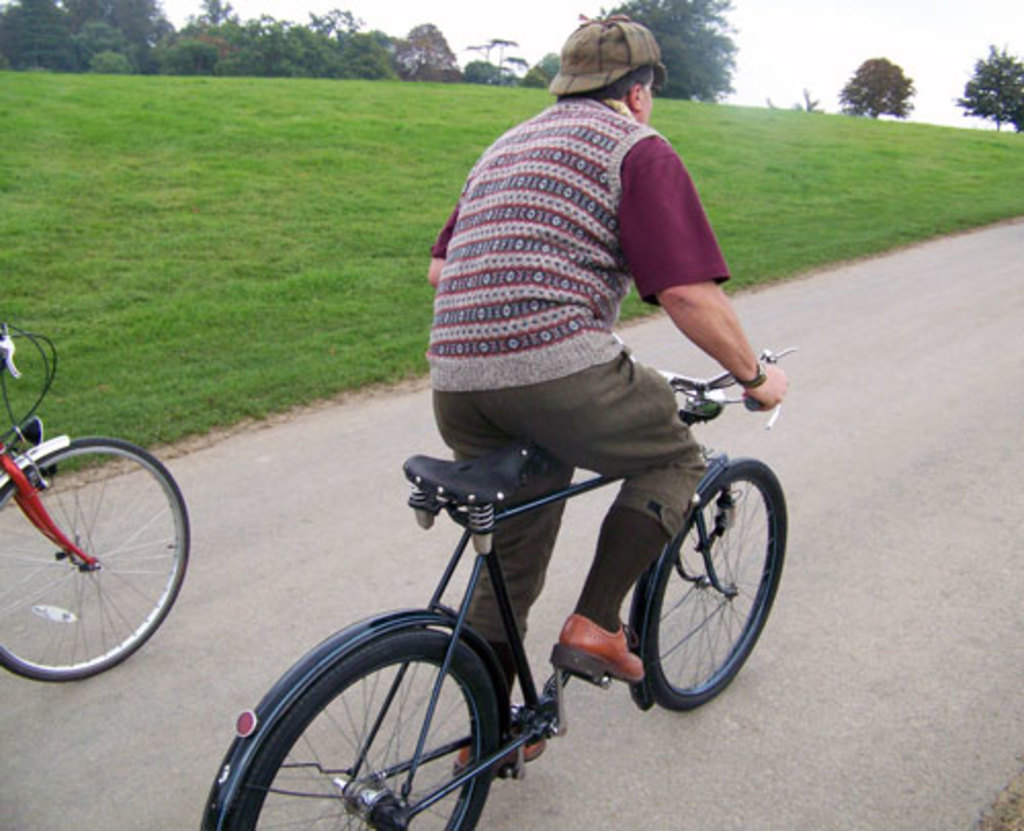Bike_away: (214, 392, 760, 831)
